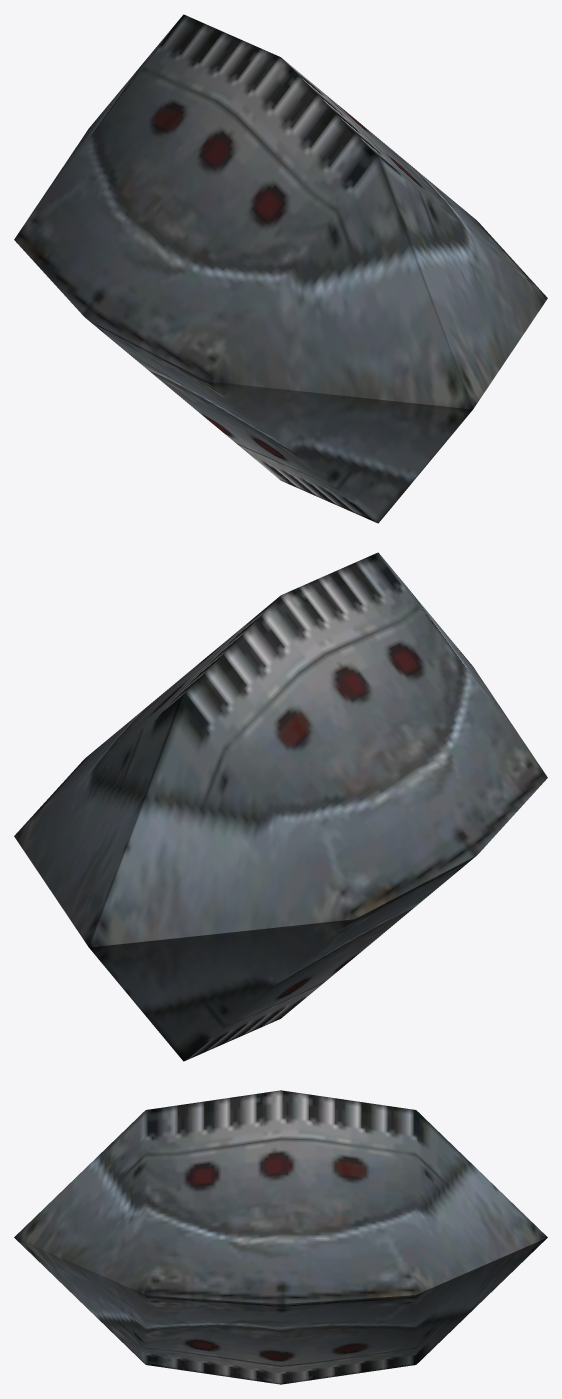
File: msc_toy_ball_football_l3.fbx
3 renders of one model, top to bottom at view 1: azimuth 30°, elevation 25°; view 2: azimuth 150°, elevation 25°; view 3: azimuth 270°, elevation 25°, orthographic. The views are drawn at different scales.
Visible parts, largest first — view 1: mesh_node; view 2: mesh_node; view 3: mesh_node.
Boxes of the visible parts, box(x1,y1,x2,y2) form: mesh_node: box(14, 14, 547, 523); mesh_node: box(14, 552, 547, 1061); mesh_node: box(14, 1090, 547, 1384).
Size of the model in its own units: 0.1502 by 0.1546 by 0.2541.
Materials: 1 (1 with a texture image).
